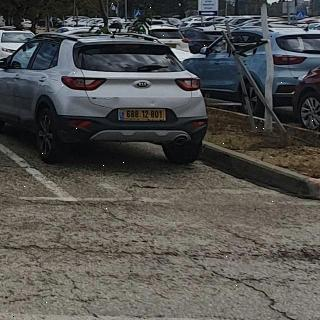LicensePlate: (124, 110, 164, 119)
